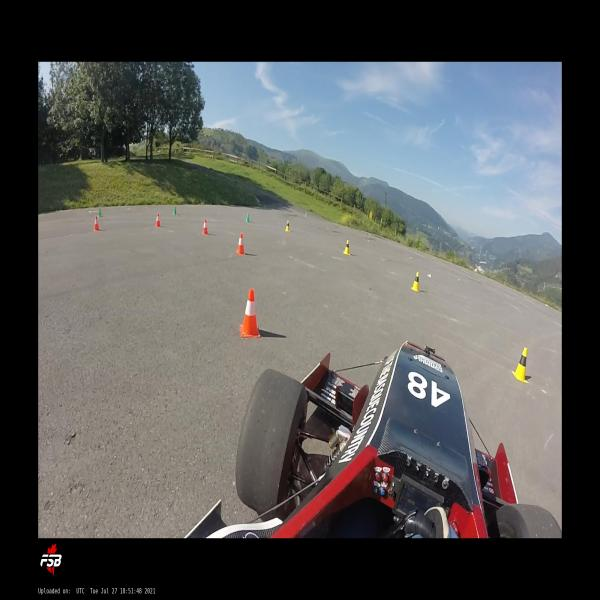orange_cone: (239, 288, 261, 338), (236, 232, 246, 256), (202, 219, 209, 236), (94, 215, 100, 231), (156, 212, 161, 228), (246, 213, 250, 222)
unknown_cone: (246, 213, 250, 222), (98, 208, 102, 217), (173, 206, 176, 215)
yellow_cone: (511, 347, 529, 383), (411, 271, 420, 292), (343, 240, 351, 255), (285, 219, 290, 232)
